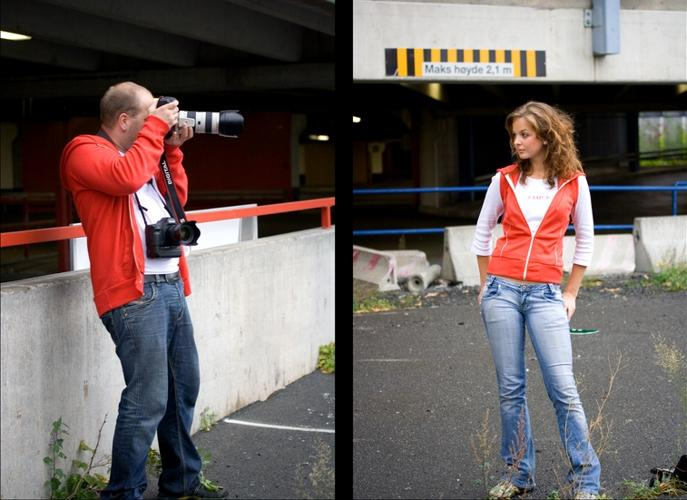person: (58, 80, 224, 500)
